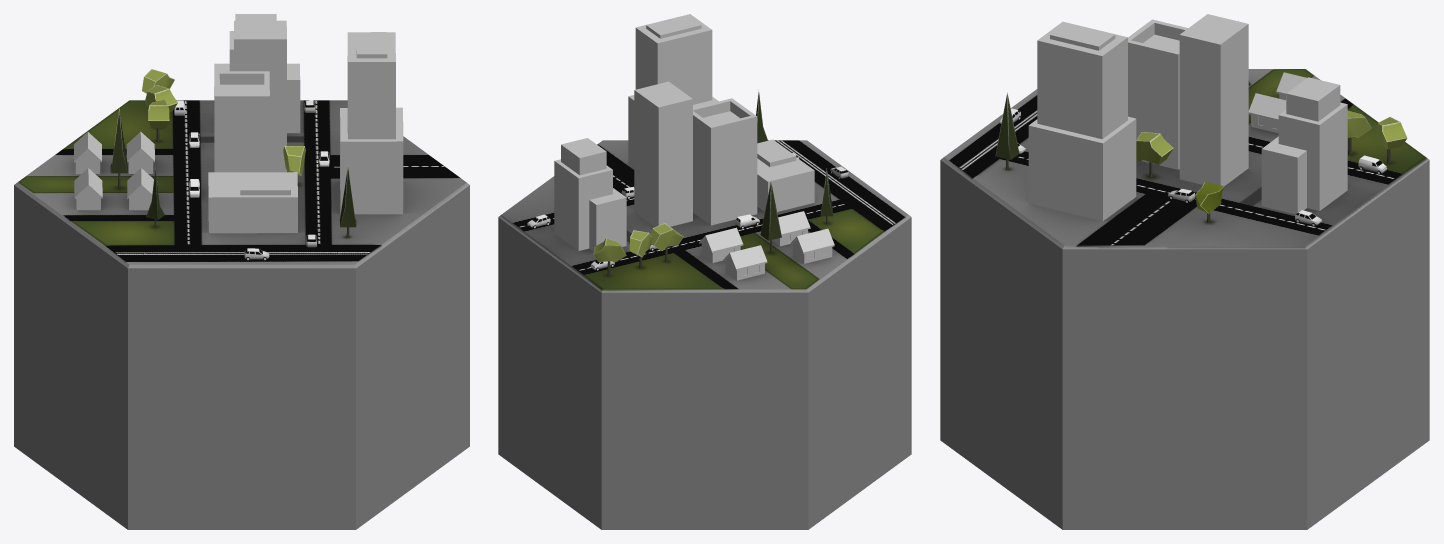
File: Tile_City02.fbx
3 views of the same model, side by side, from view 1: azimuth 30°, elevation 25°; view 2: azimuth 150°, elevation 25°; view 3: azimuth 270°, elevation 25° (orthographic). The views are drawn at different scales.
Parts seen in each view (by area): view 1: City02; view 2: City02; view 3: City02.
Boxes of the visible parts, <box> form: City02: <box>14,14,469,529</box>; City02: <box>498,14,911,529</box>; City02: <box>940,14,1429,529</box>.
Bounding box in the file's own units: 1931 × 2256 × 2229.
